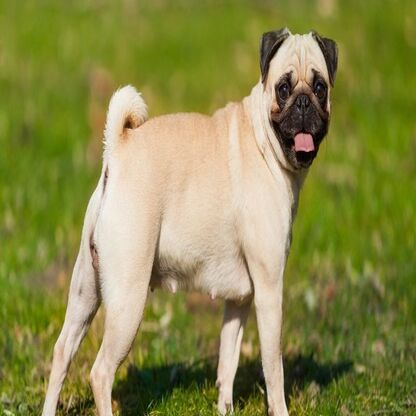Pug: (33, 18, 351, 416)
